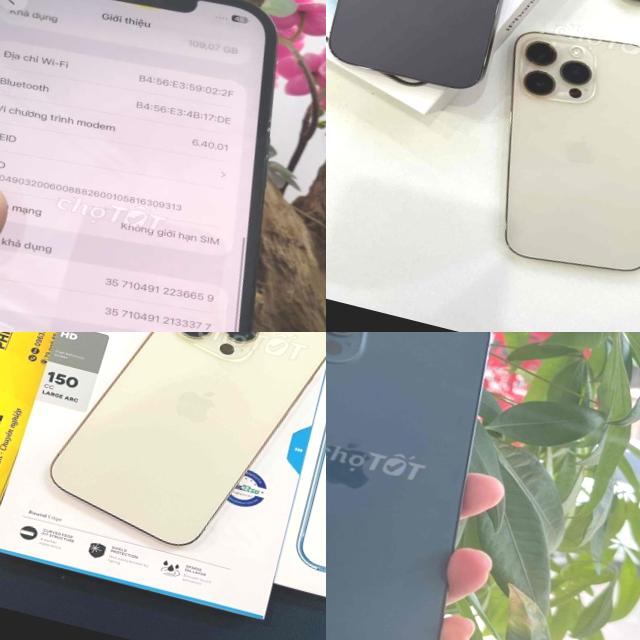gen_12_13: (0, 0, 326, 332), (326, 332, 531, 640)
gen_14: (32, 332, 326, 568), (465, 0, 640, 293), (326, 0, 545, 115)
